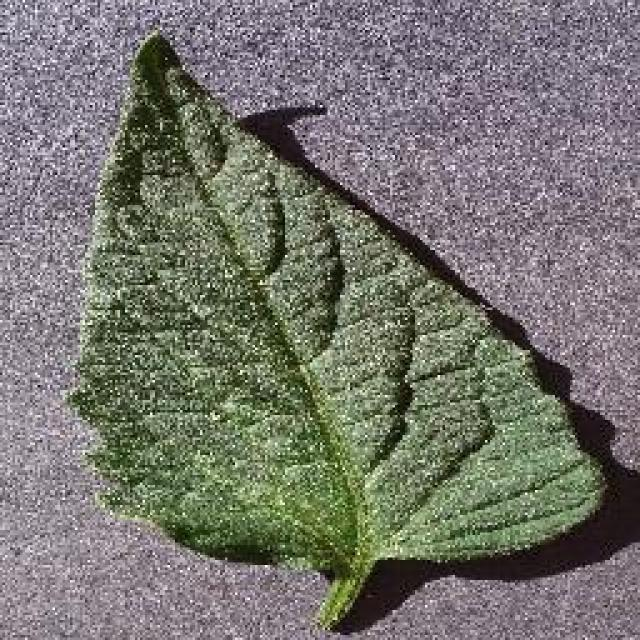Tomato_Healthy: (48, 14, 612, 576)
